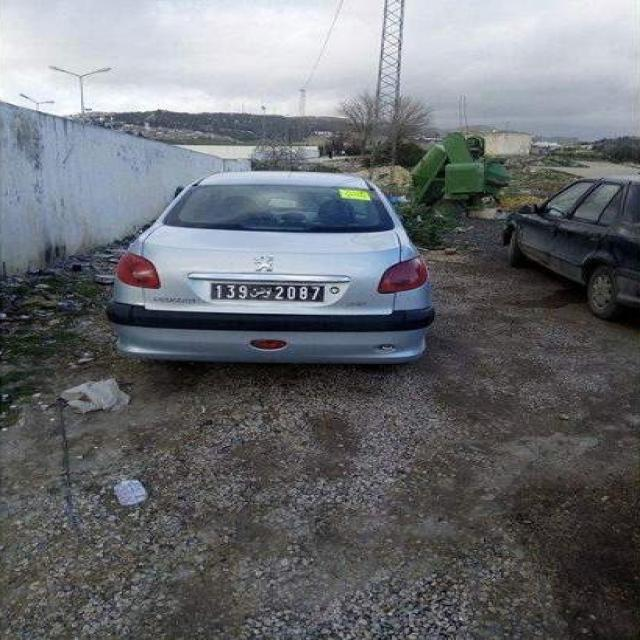licence plate: (212, 284, 324, 301)
